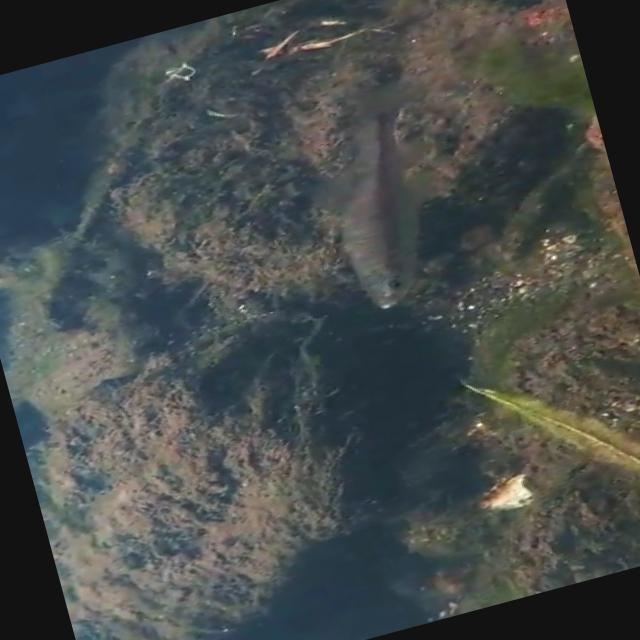Cakil Baligi: (305, 83, 457, 322)
